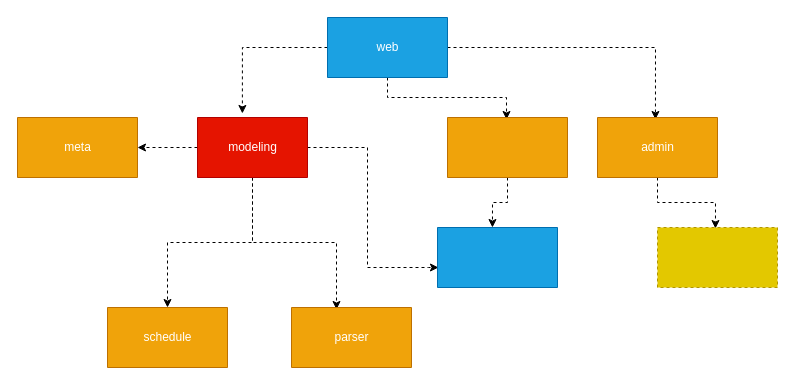
This 795x385 diagram has some shape labels left out. The centre of each missing label's shape, as x and y in pixels:
"common" goes at point 497,257.
"dids" goes at point 717,257.
"label" goes at point 507,147.
